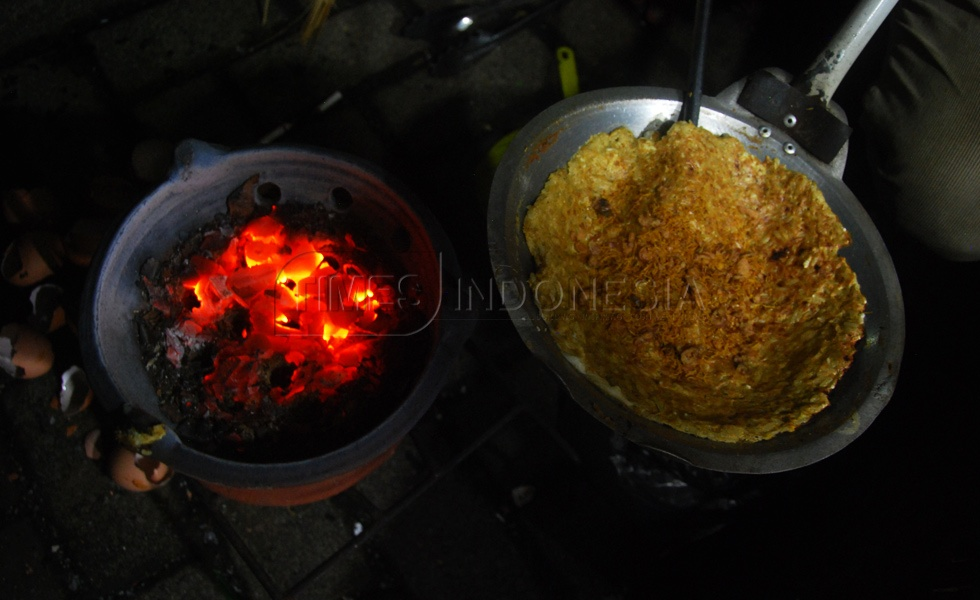kerak_telor: (508, 116, 862, 456)
